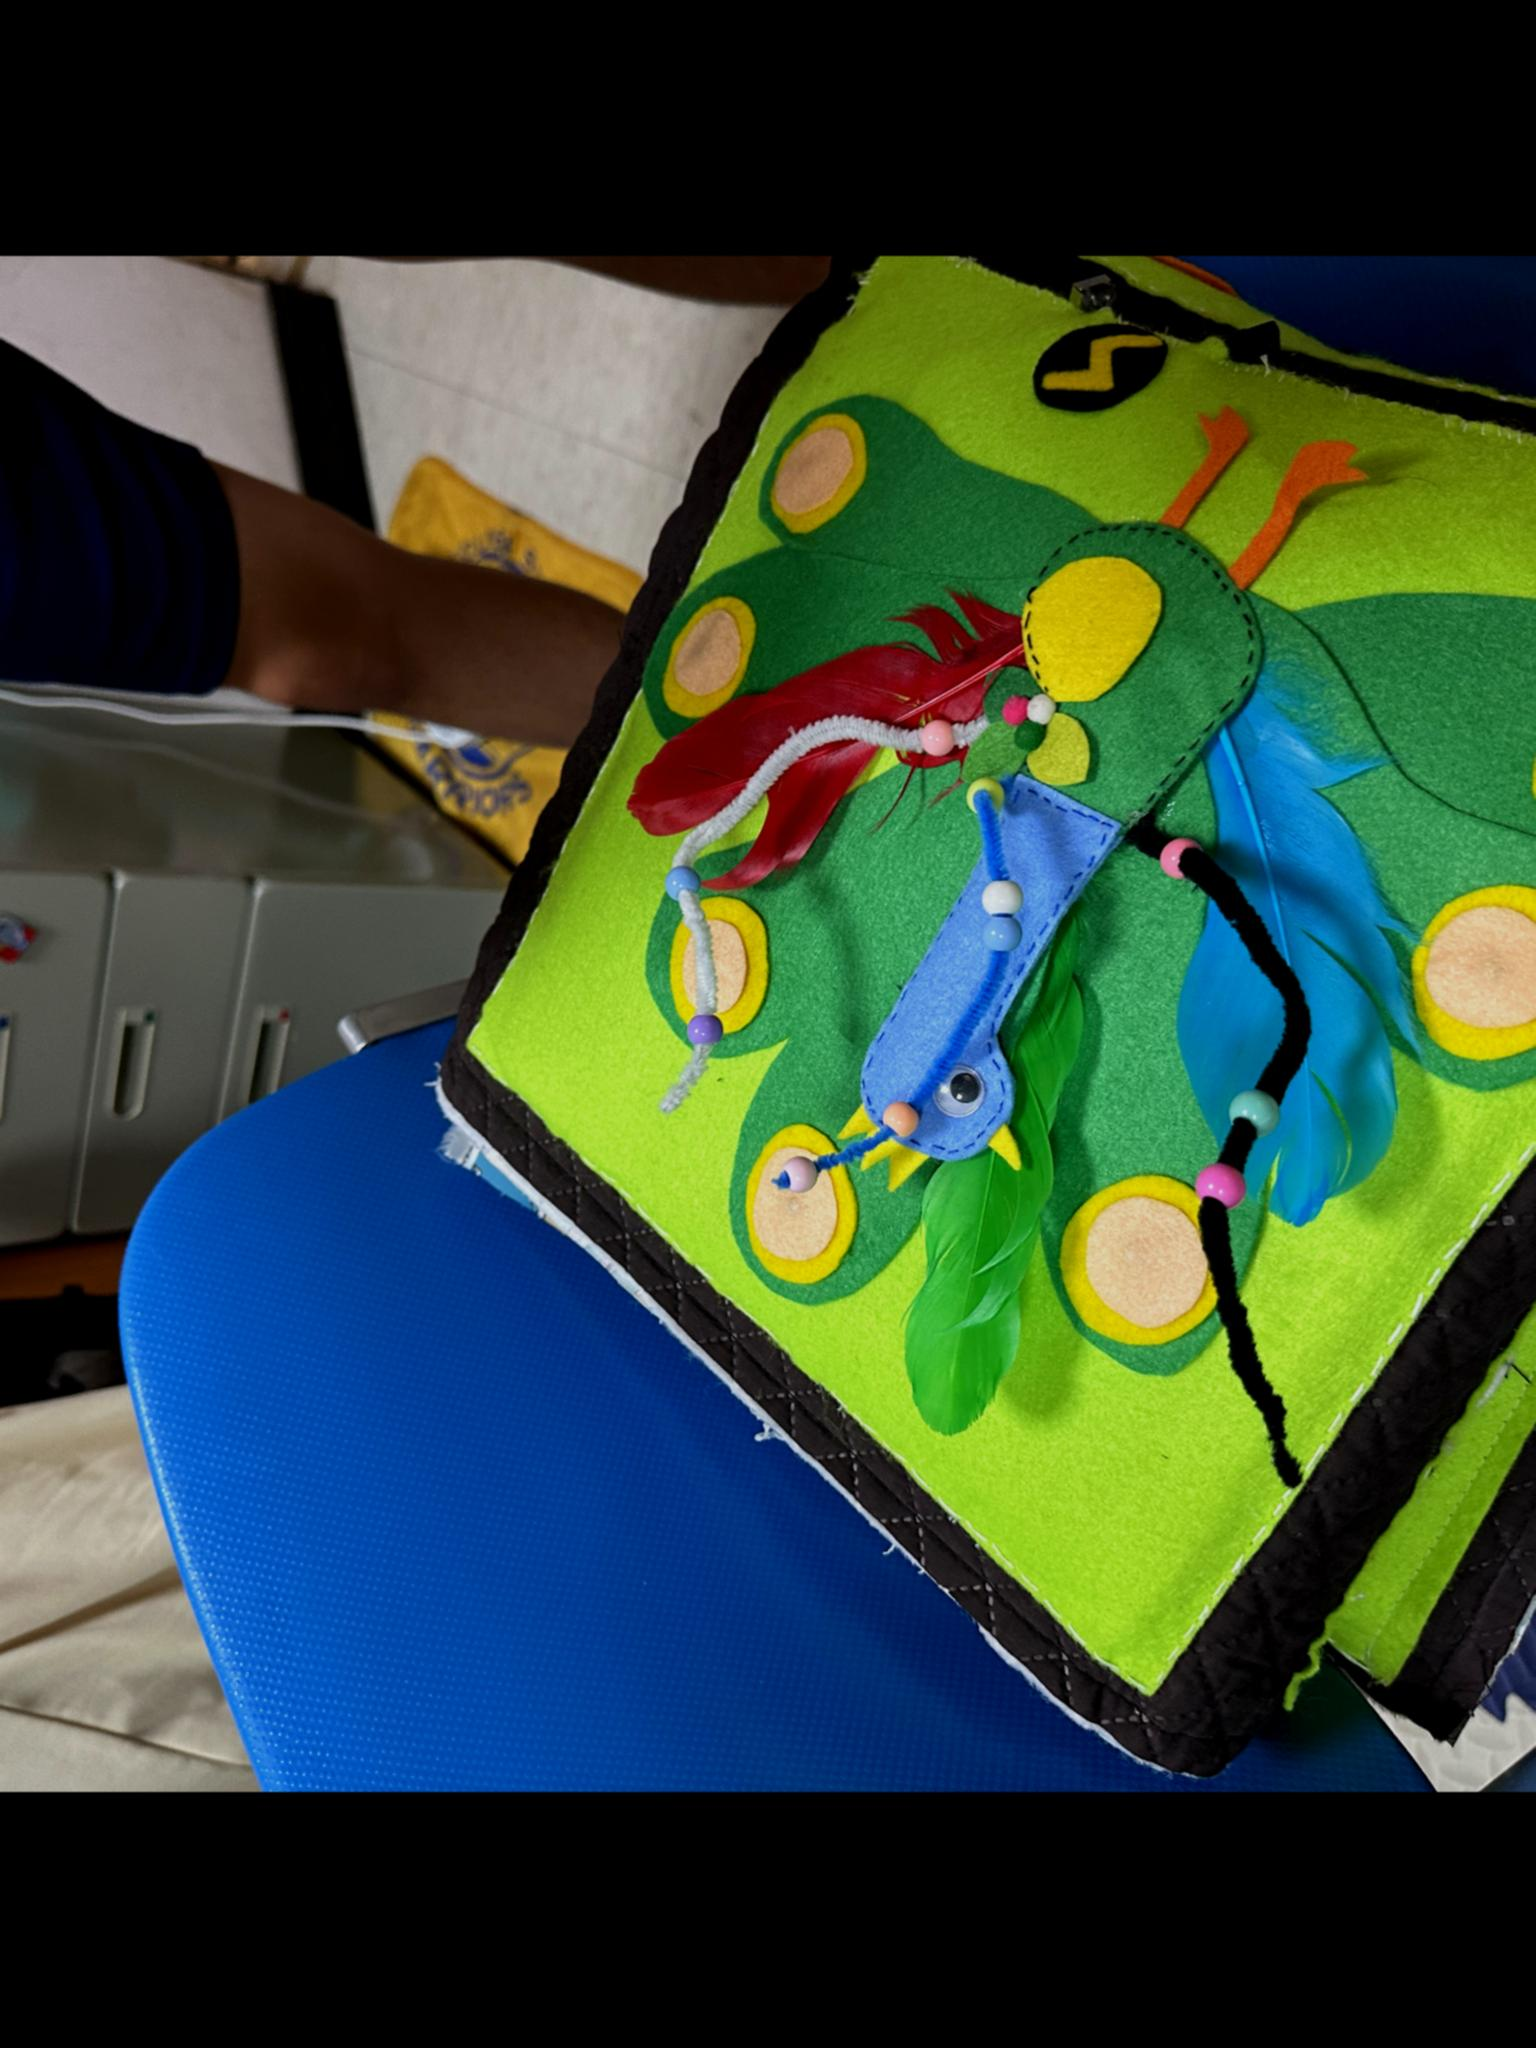bead: (1144, 810, 1212, 893), (1184, 1161, 1255, 1227), (1225, 1079, 1291, 1147), (650, 860, 703, 918), (665, 1003, 724, 1055), (879, 1090, 931, 1142), (960, 763, 1004, 821), (900, 714, 960, 756), (976, 879, 1031, 922), (778, 1145, 820, 1198), (976, 921, 1023, 964)
